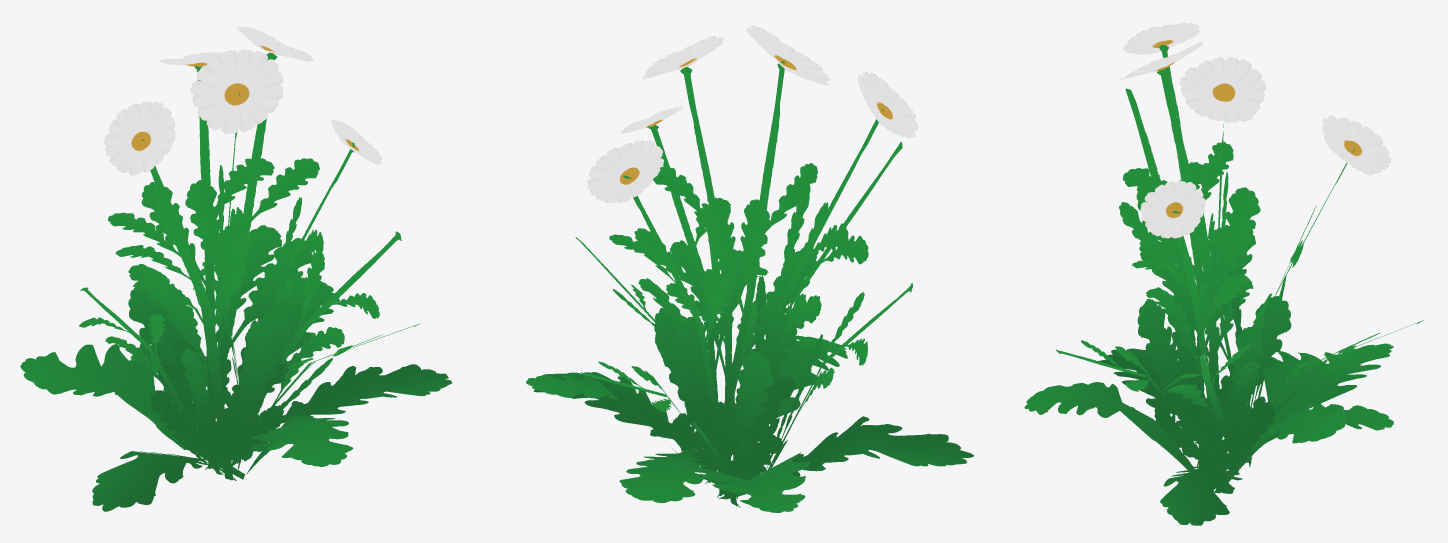
Rendered from PT_Daisy_01.fbx.
3 renders of one model, left to right at view 1: azimuth 30°, elevation 25°; view 2: azimuth 150°, elevation 25°; view 3: azimuth 270°, elevation 25°, orthographic. The views are drawn at different scales.
Parts seen in each view (by area): view 1: PT_Daisy_01_LOD0; view 2: PT_Daisy_01_LOD0; view 3: PT_Daisy_01_LOD0.
Part boxes in pixels (x1,y1,x2,y2): PT_Daisy_01_LOD0: [20, 26, 452, 511]; PT_Daisy_01_LOD0: [526, 25, 973, 512]; PT_Daisy_01_LOD0: [1024, 22, 1423, 525].
Size of what is drawn, in the model's own units: 63.31 by 67.36 by 55.7.
